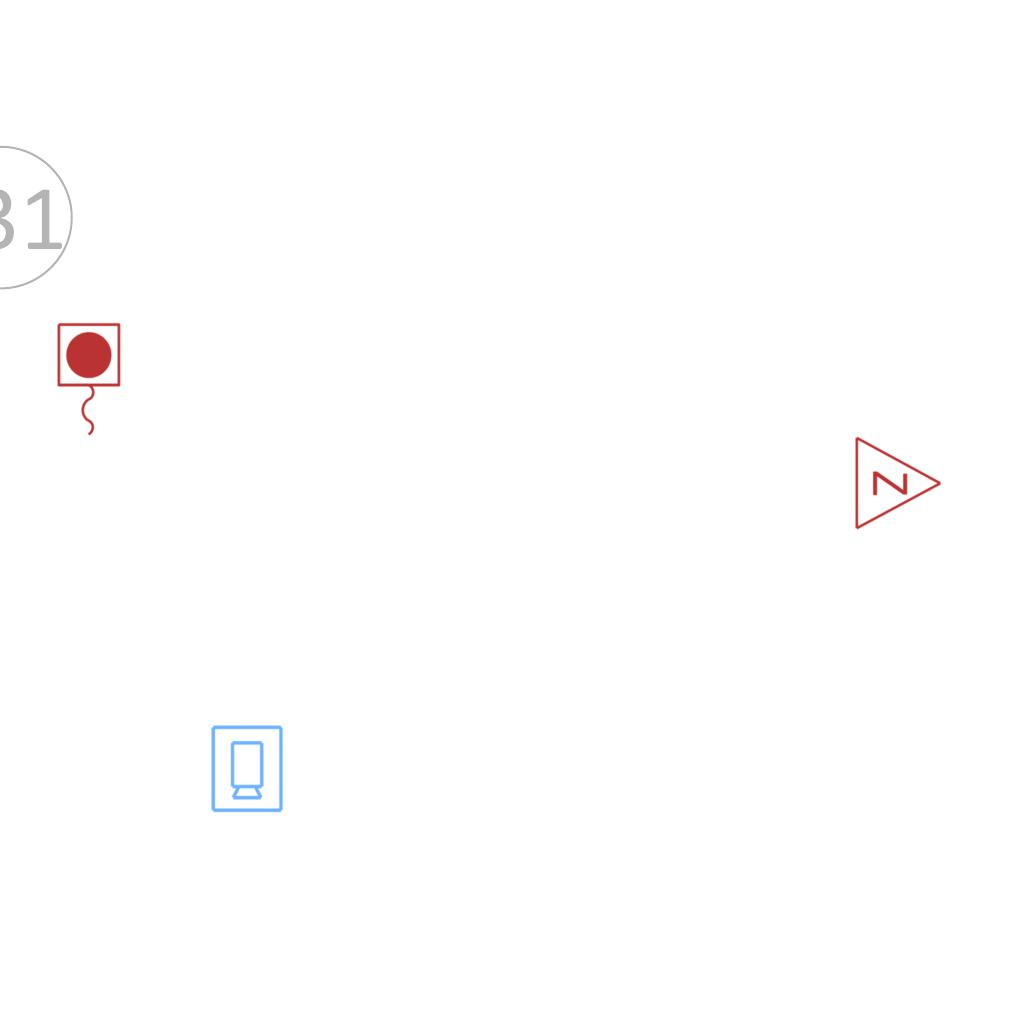KFO_Kamera_mit_Festobjektiv: (208, 723, 285, 814)
Zimmersignalleuchte: (848, 433, 948, 531)
Zugtaster: (52, 319, 124, 441)
